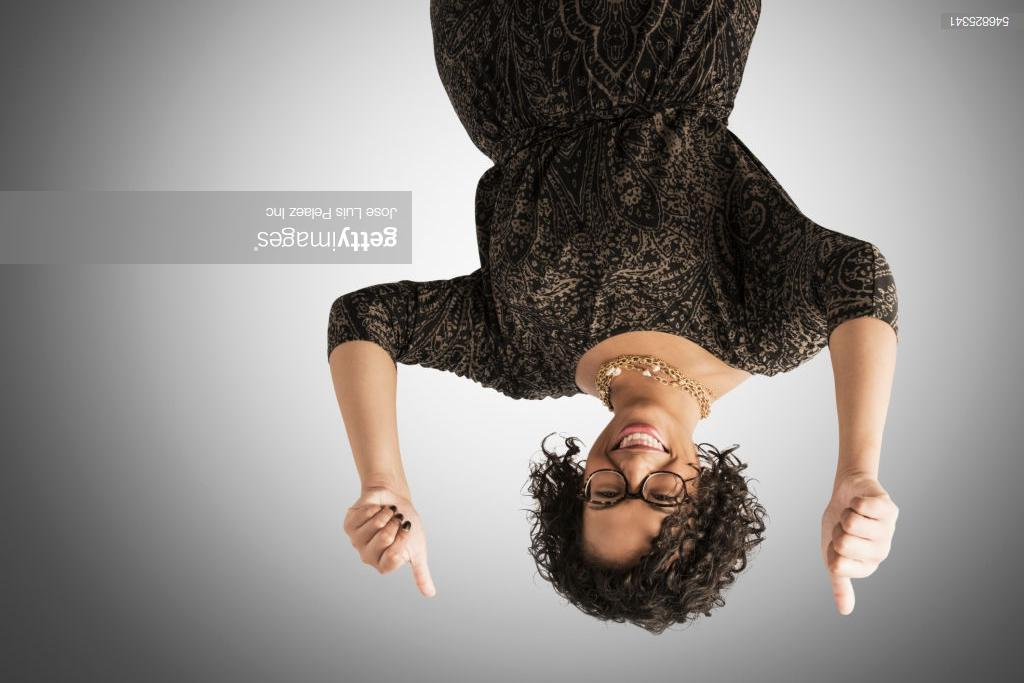thumbsdown: (827, 494, 901, 617), (343, 502, 436, 599)
